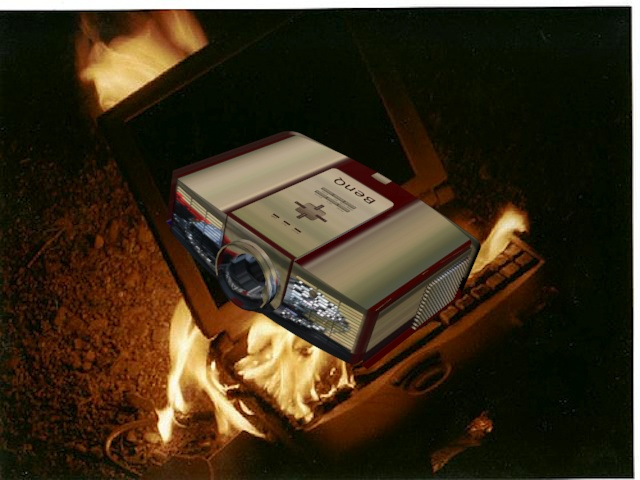projector: (160, 128, 488, 384)
